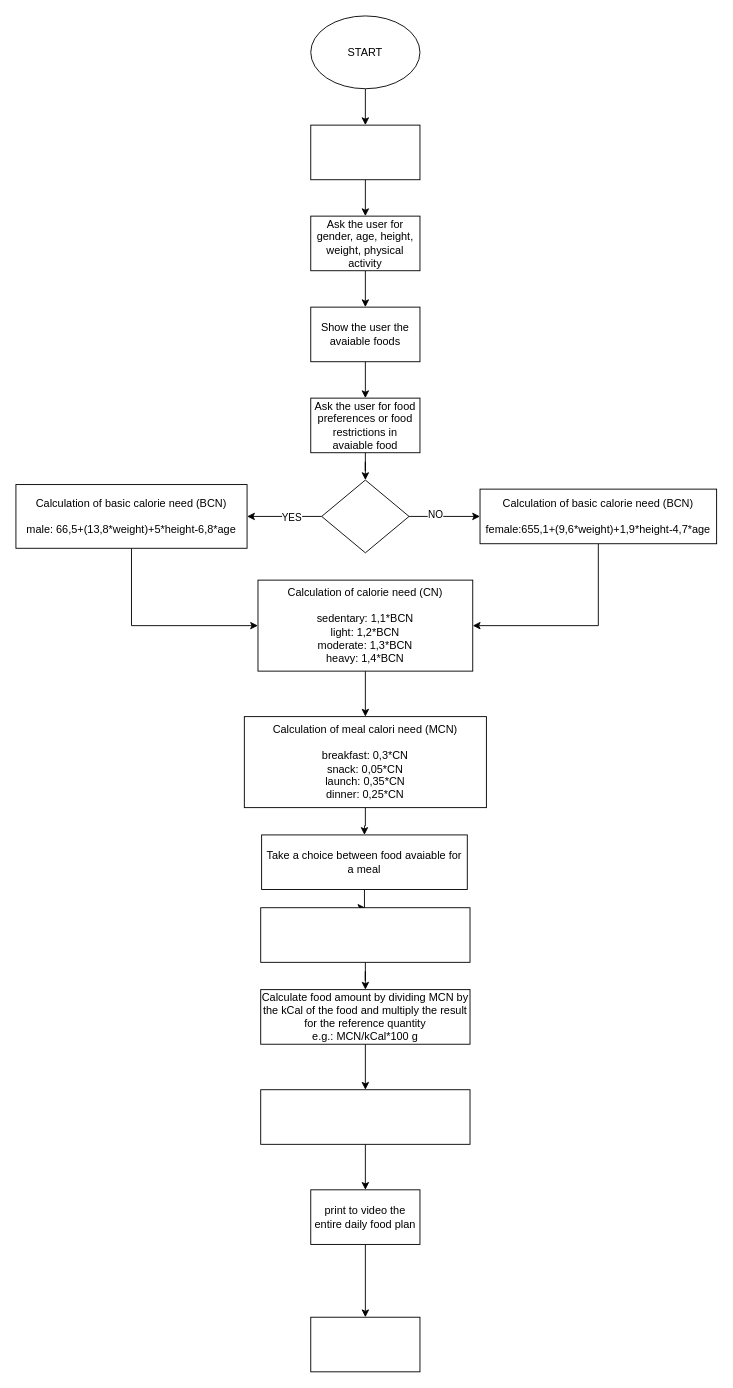
Some shapes in this 733 by 1388 pixel diagram are drawn without their labels. Here are the shapes that lost their labels. From the top down, the centre of each, then its label:
At [365,152]: "Store in text variable avaiable food names and their nutritional properties".
At [365,516]: "gender=male".
At [365,934]: "Extract kCal from the relevant food text variable".
At [365,1116]: "Store food name and the relevant quantity in a text variable".
At [365,1344]: "END".
